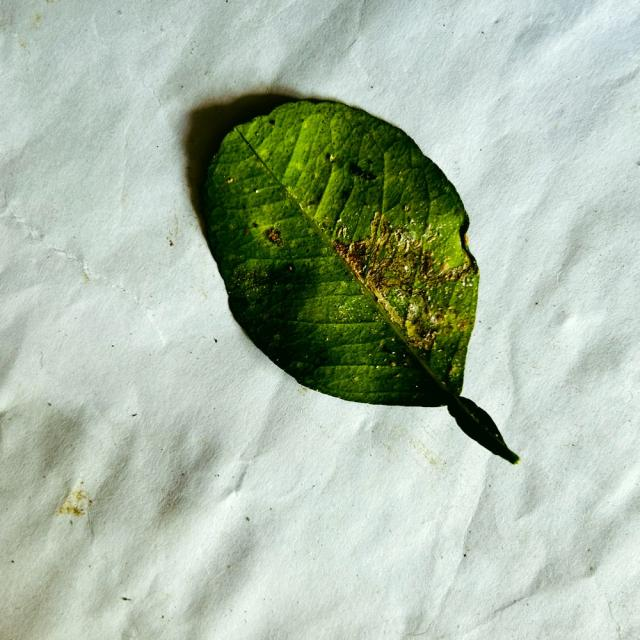Bacterial_Blight: (360, 236, 457, 289), (231, 264, 275, 302), (335, 238, 370, 279), (348, 162, 378, 182), (265, 228, 283, 246), (369, 217, 382, 241), (457, 321, 467, 331), (413, 239, 422, 248)
Lemon: (186, 94, 518, 464)
